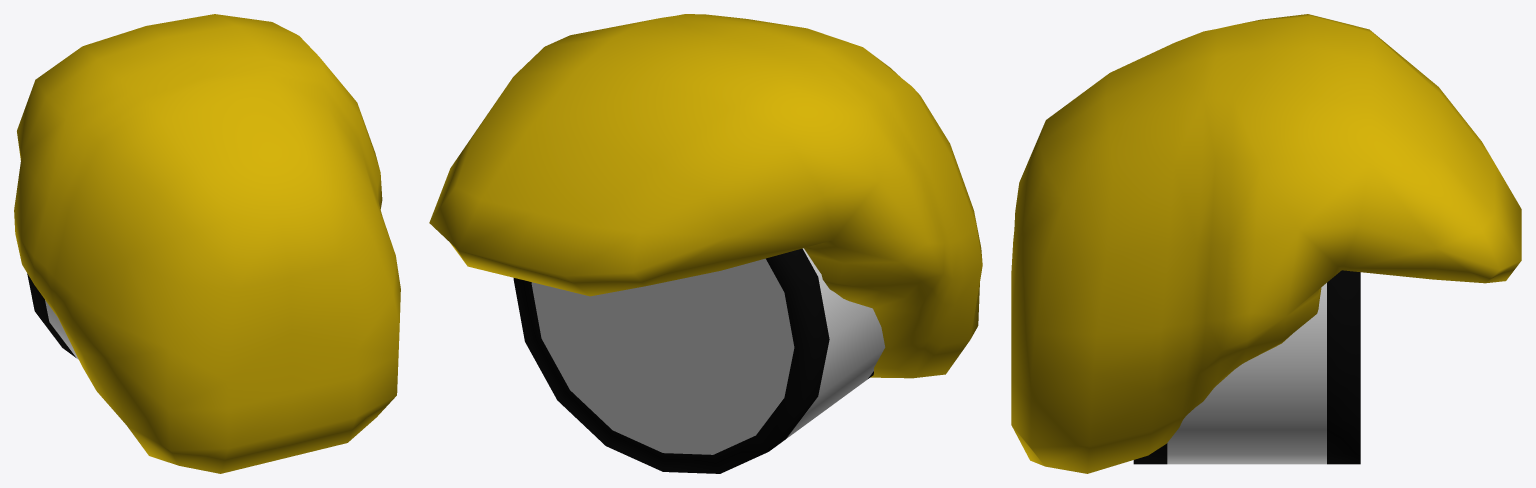
Rendered from Wig_mitKop.fbx.
3 views of the same model, side by side, from view 1: azimuth 30°, elevation 25°; view 2: azimuth 150°, elevation 25°; view 3: azimuth 270°, elevation 25° (orthographic). The views are drawn at different scales.
Visible parts, largest first — view 1: Wig, Cylinder.000; view 2: Wig, Cylinder.000; view 3: Wig, Cylinder.000.
Boxes of the visible parts, box(x1,y1,x2,y2) form: Wig: box(14, 14, 400, 473); Cylinder.000: box(27, 273, 78, 359); Wig: box(429, 14, 982, 378); Cylinder.000: box(513, 248, 885, 473); Wig: box(1011, 14, 1521, 473); Cylinder.000: box(1133, 270, 1360, 464).
Bounding box in the file's own units: 169 × 157 × 183.
